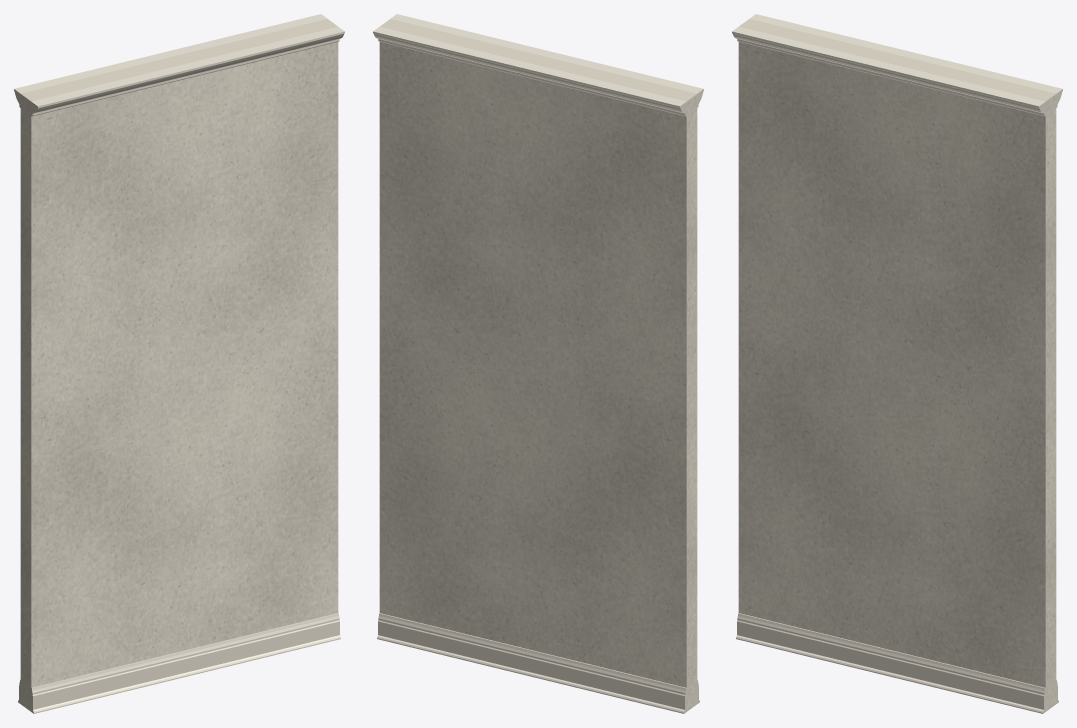
Rendered from interior_wall_plain.glb.
The picture shows the model from 3 angles, left to right: view 1: azimuth 30°, elevation 25°; view 2: azimuth 150°, elevation 25°; view 3: azimuth 330°, elevation 25°; orthographic projection.
Parts seen in each view (by area): view 1: interior_wall_plain_plaster, molduras; view 2: interior_wall_plain_plaster, molduras; view 3: interior_wall_plain_plaster, molduras.
Boxes of the visible parts, x1,y1,x2,y2 form: interior_wall_plain_plaster: (20, 19, 338, 711); molduras: (14, 14, 344, 713); interior_wall_plain_plaster: (379, 19, 697, 711); molduras: (373, 14, 703, 713); interior_wall_plain_plaster: (738, 19, 1056, 711); molduras: (732, 14, 1062, 713).
Bounding box in the file's own units: 2 × 3.8 × 0.27.
Materials: 2 (1 with a texture image).
